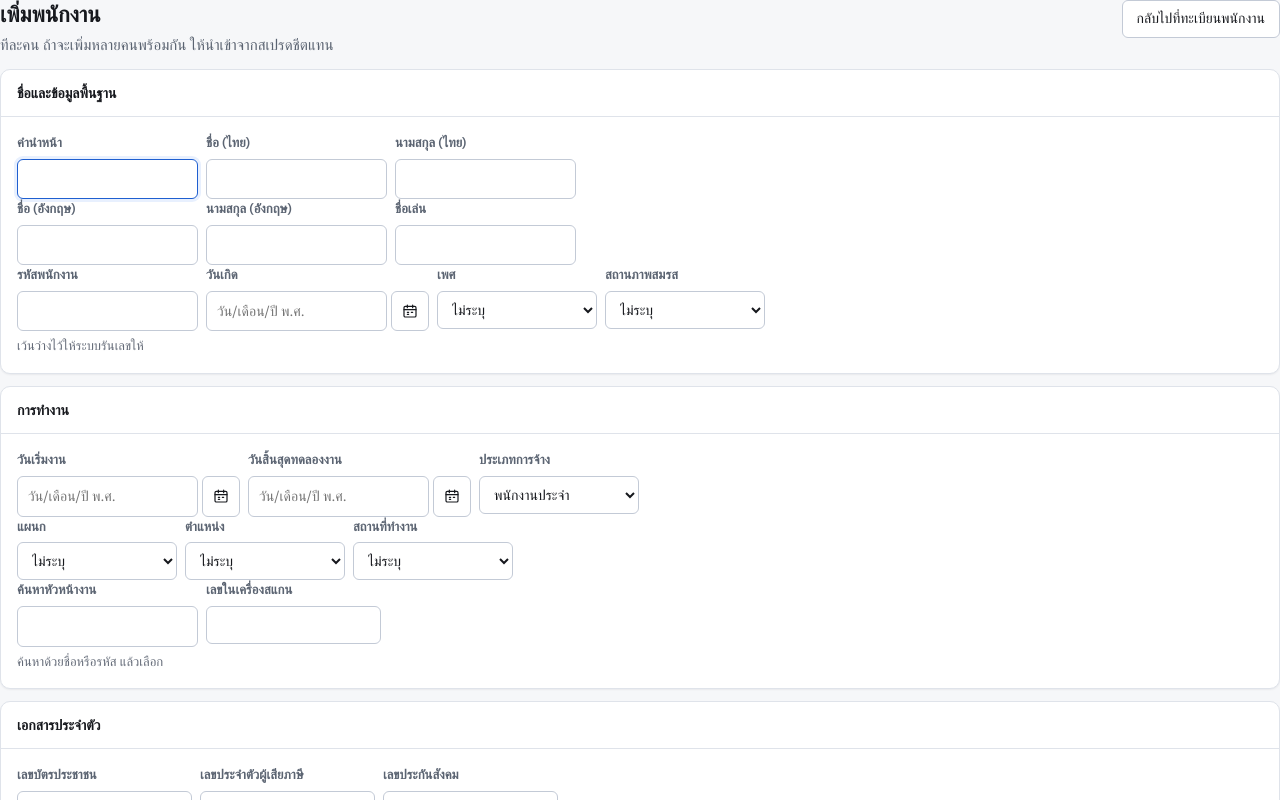
Test case: Adding one employee from the console (CW-065) › sends what was typed, the national ID as digits, and goes to the new person
In the field labelled "ชื่อ (ไทย)": (296, 179) [206,159,387,199], type "วิภา"
In the field labelled "นามสกุล (ไทย)": (486, 179) [395,159,576,199], type "ใจดี"
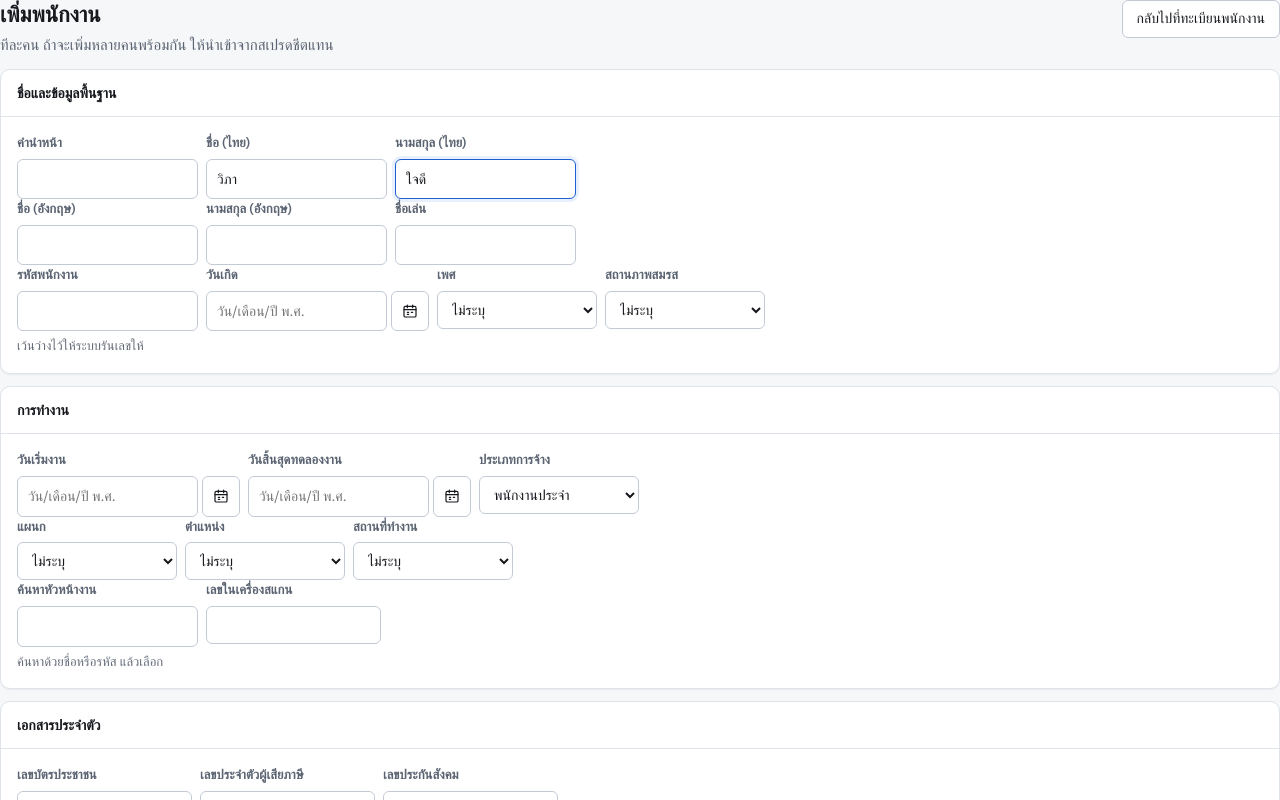
In the field labelled "วันเริ่มงาน": (108, 496) [17,476,198,516], type "2026-10-01"
(page scrolled)
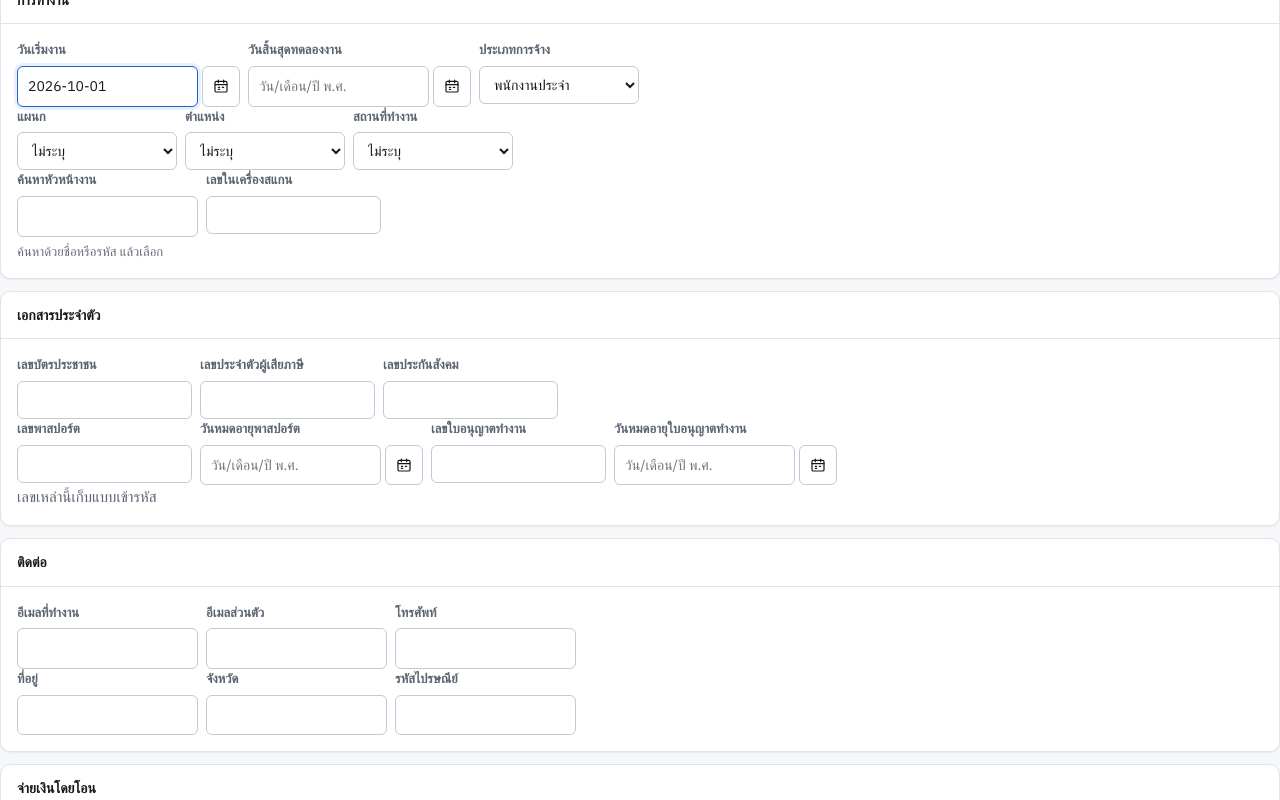
In the field labelled "เลขบัตรประชาชน": (104, 400) [17,381,192,419], type "1-1017-00230-67-3"
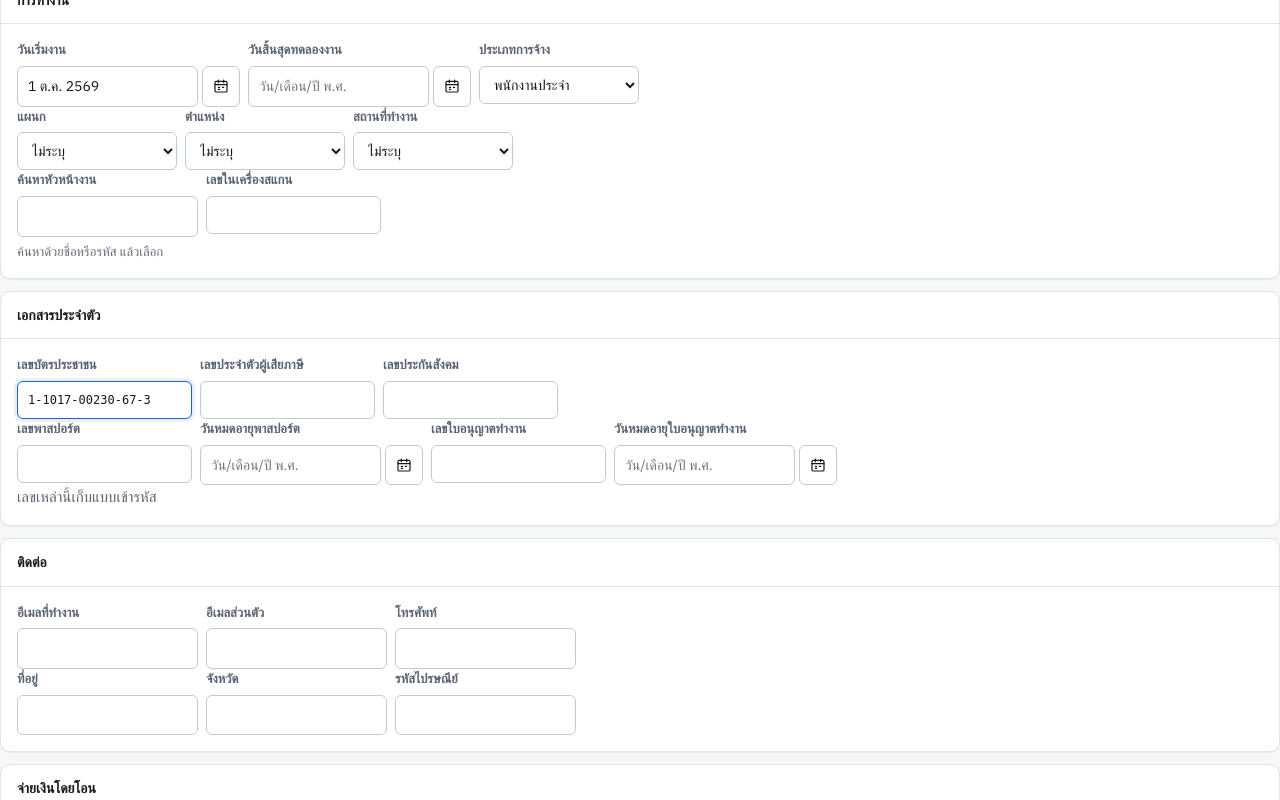
Select "บัญชี" in the dropdown labelled "แผนก": (97, 151) [17,132,177,170]
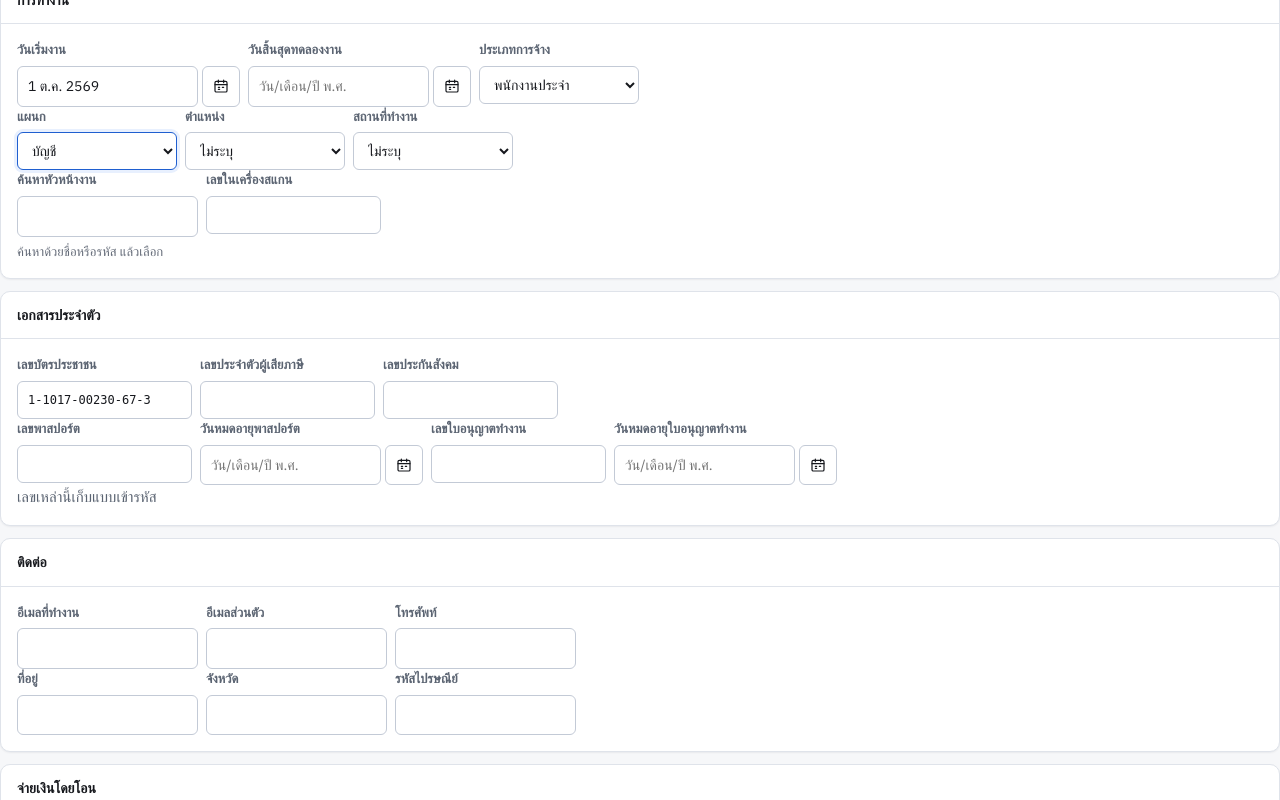
In the field labelled "เลขในเครื่องสแกน": (294, 215) [206,196,381,234], type "007"
(page scrolled)
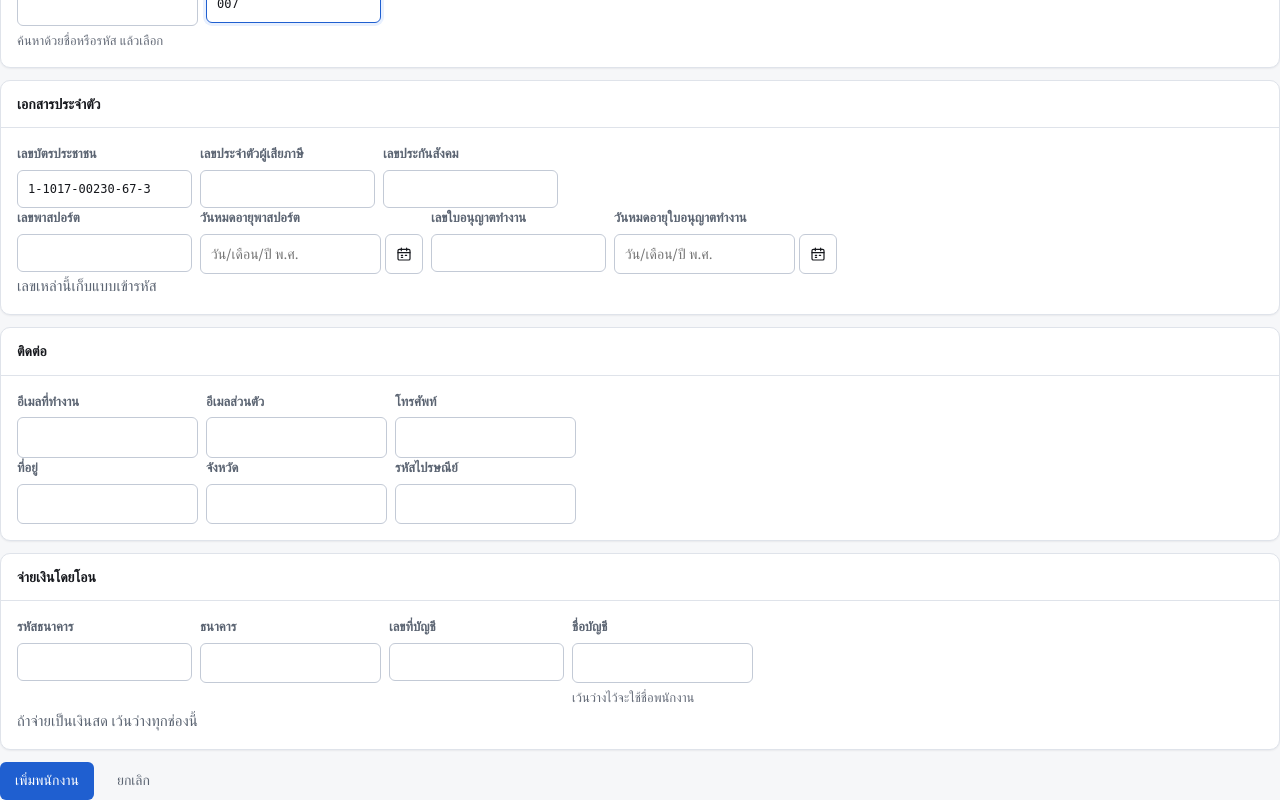
Click the button "เพิ่มพนักงาน": (47, 781) [0,762,94,799]
(page scrolled)
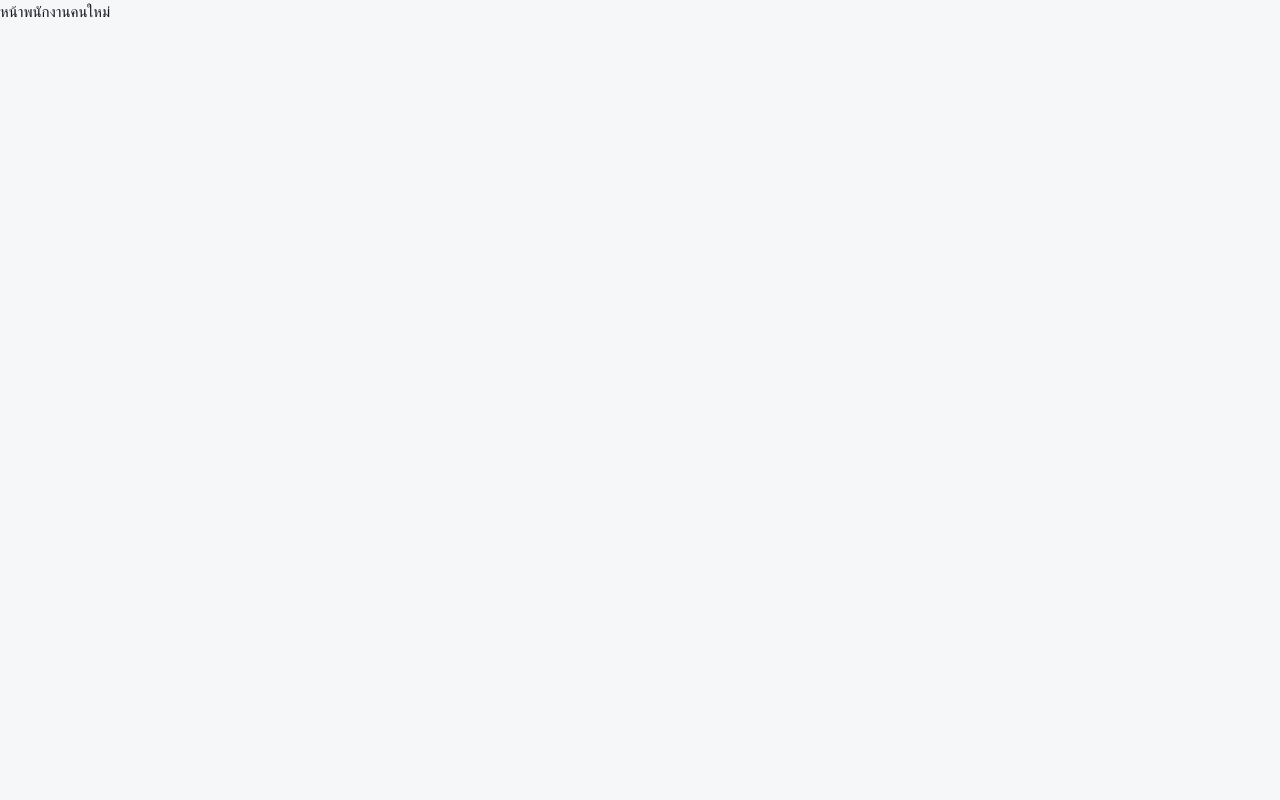
Check: the text "หน้าพนักงานคนใหม่" is shown, box [0,2,110,21]
